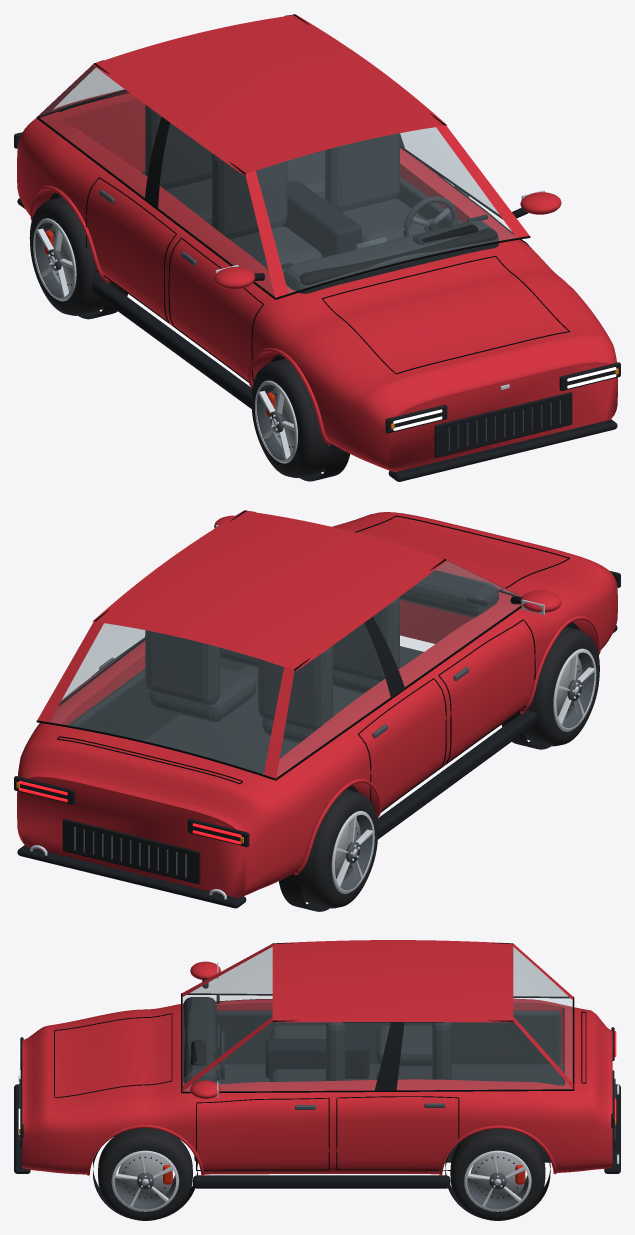
Rendered from hatchback.glb.
The picture shows the model from 3 angles, top to bottom: view 1: azimuth 30°, elevation 25°; view 2: azimuth 150°, elevation 25°; view 3: azimuth 270°, elevation 25°; orthographic projection. The views are drawn at different scales.
Parts seen in each view (by area): view 1: Sculpted body shell.002, Painted roof.002, Windshield.002, Side glass.004, Interior dashboard.002, Interior seat back.007, Interior seat back.006, Front grille housing.002, Tire.010, Interior centre console.002, Tire.008, Rocker aero sill.004 (+29 smaller); view 2: Sculpted body shell.002, Painted roof.002, Rear glass.002, Side glass.004, Interior cabin floor.002, Interior seat back.009, Rear diffuser grille.002, Interior seat back.008, Tire.008, Interior door card.005, Tire.010, Rocker aero sill.004 (+29 smaller); view 3: Sculpted body shell.002, Side glass.005, Painted roof.002, Interior door card.004, Windshield.002, Rear glass.002, Tire.011, Tire.009, Rocker aero sill.005, Side glass.004, Interior cabin floor.002, Interior centre console.002 (+27 smaller).
Boxes of the visible parts, bbox=[...] form: Sculpted body shell.002: bbox=[17, 89, 617, 471]; Painted roof.002: bbox=[101, 16, 438, 171]; Windshield.002: bbox=[256, 127, 515, 292]; Side glass.004: bbox=[39, 65, 274, 296]; Interior dashboard.002: bbox=[284, 220, 498, 293]; Interior seat back.007: bbox=[325, 133, 399, 211]; Interior seat back.006: bbox=[212, 154, 287, 239]; Front grille housing.002: bbox=[434, 392, 572, 457]; Tire.010: bbox=[251, 358, 330, 477]; Interior centre console.002: bbox=[282, 180, 361, 257]; Tire.008: bbox=[29, 196, 105, 315]; Rocker aero sill.004: bbox=[92, 280, 252, 408]; Sculpted body shell.002: bbox=[17, 512, 617, 897]; Painted roof.002: bbox=[101, 512, 439, 667]; Rear glass.002: bbox=[50, 623, 283, 773]; Side glass.004: bbox=[277, 561, 520, 776]; Interior cabin floor.002: bbox=[143, 665, 362, 773]; Interior seat back.009: bbox=[145, 630, 220, 705]; Rear diffuser grille.002: bbox=[62, 818, 200, 884]; Interior seat back.008: bbox=[258, 646, 332, 731]; Tire.008: bbox=[299, 789, 378, 908]; Interior door card.005: bbox=[68, 657, 245, 740]; Tire.010: bbox=[524, 626, 599, 746]; Rocker aero sill.004: bbox=[377, 710, 537, 839]; Sculpted body shell.002: bbox=[22, 998, 612, 1174]; Side glass.005: bbox=[184, 1022, 571, 1091]; Painted roof.002: bbox=[272, 940, 513, 1021]; Interior door card.004: bbox=[216, 1010, 560, 1064]; Windshield.002: bbox=[182, 947, 272, 1084]; Rear glass.002: bbox=[513, 947, 572, 1082]; Tire.011: bbox=[98, 1128, 192, 1220]; Tire.009: bbox=[450, 1128, 545, 1220]; Rocker aero sill.005: bbox=[193, 1175, 450, 1188]; Side glass.004: bbox=[191, 948, 567, 996]; Interior cabin floor.002: bbox=[216, 1064, 564, 1085]; Interior centre console.002: bbox=[265, 1039, 369, 1078].
Bounding box in the file's own units: 2.25 × 1.53 × 4.34.
